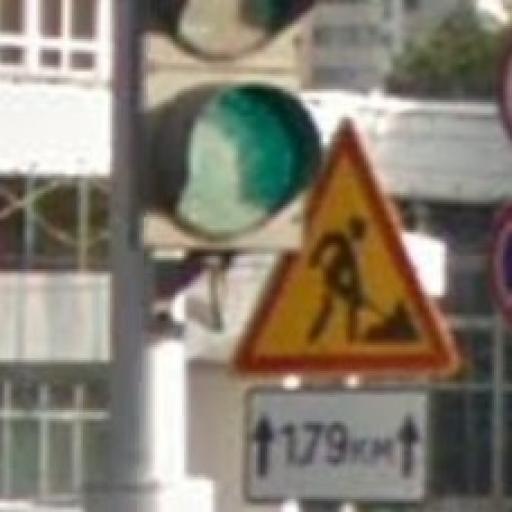traffic_sign: (228, 109, 466, 382)
